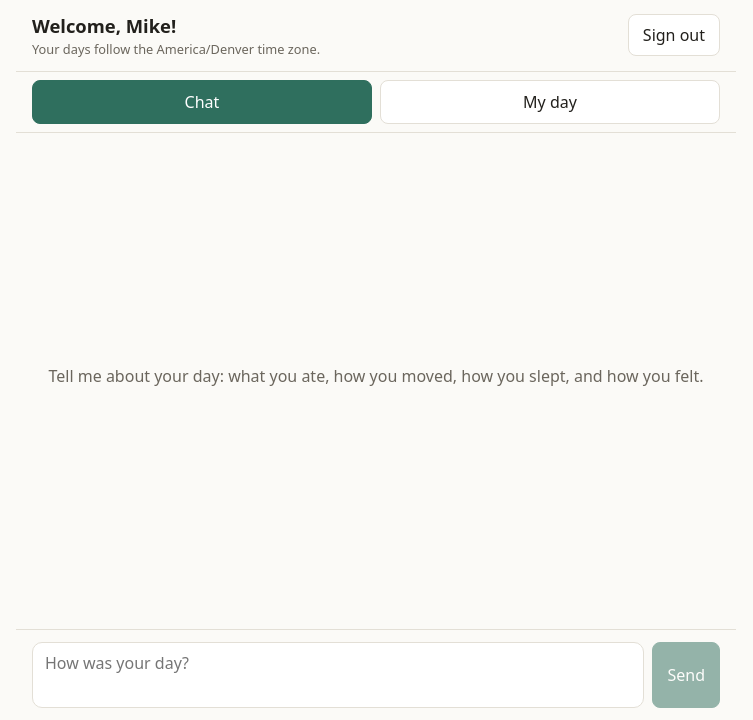
switching views › shows the day view, then the chat again, keeping the chat mounted
This screenshot has width=753, height=720.
Click the button "My day" at (550, 102), box [380,80,720,124]
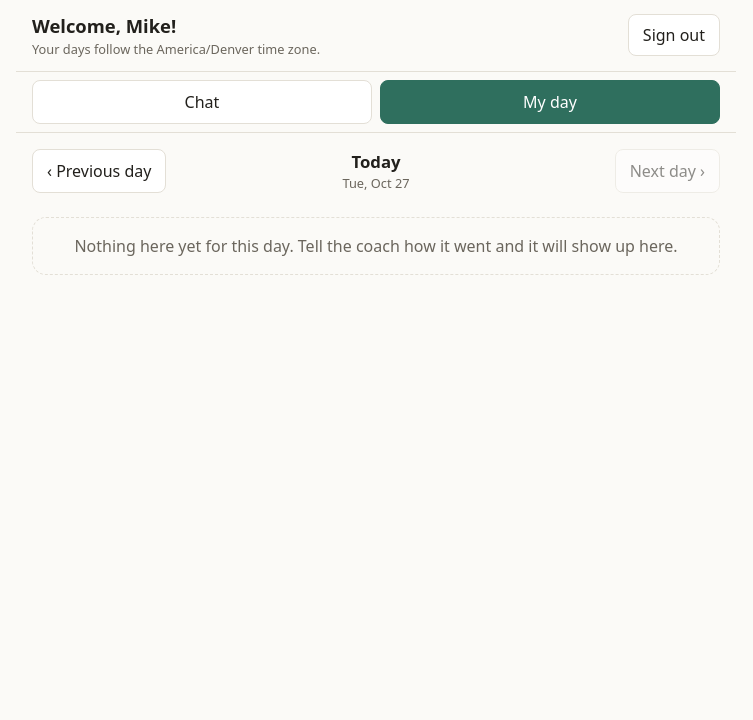
Expected: the text "Tell the coach how it went" is shown, [74,235,678,257]
Click the button "Chat" at (202, 102), box [32,80,372,124]
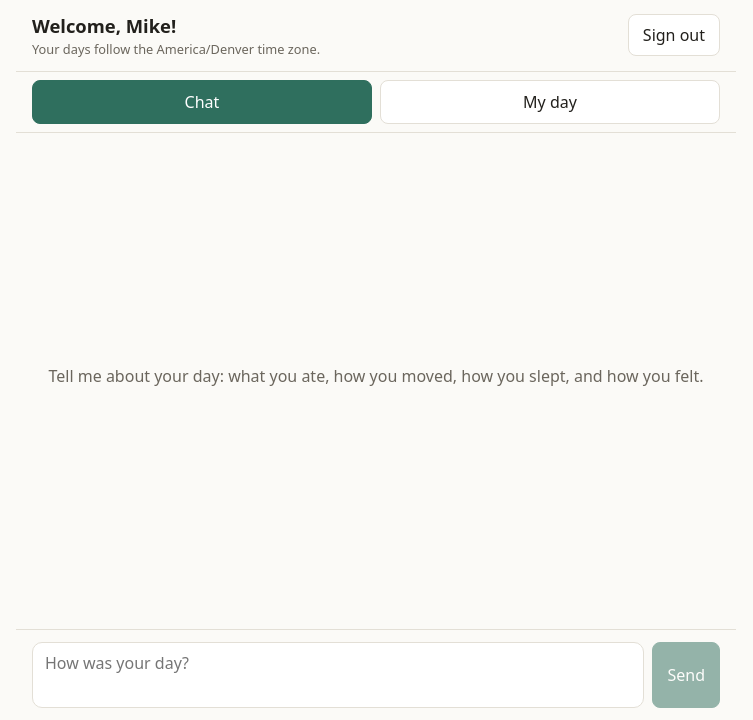
Expected: the element named "Chat with your coach" is shown
